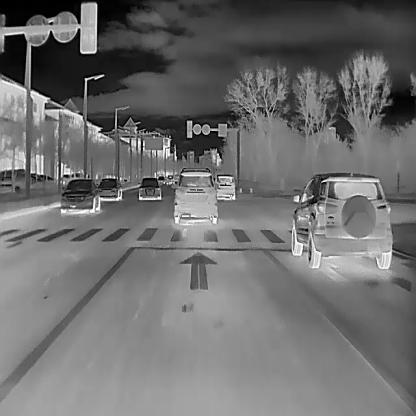car: (290, 172, 392, 268), (171, 166, 218, 223), (60, 178, 101, 212), (0, 168, 42, 187), (98, 176, 122, 201), (214, 173, 235, 200), (137, 176, 161, 199)
